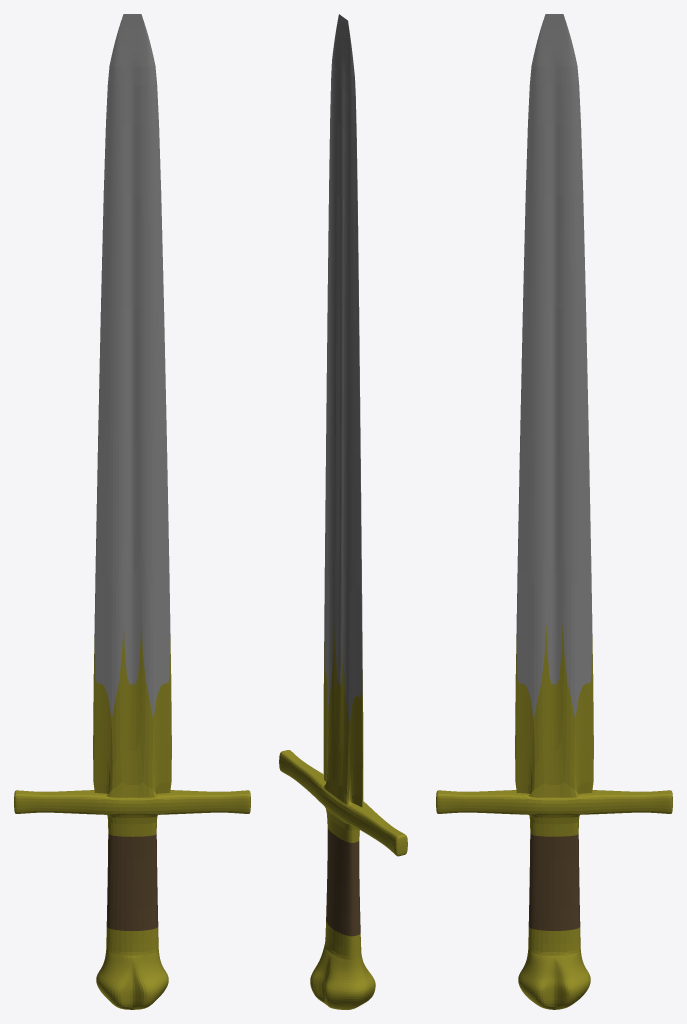
Rendered from Langschwert.fbx.
3 views of the same model, side by side, from view 1: azimuth 90°, elevation 25°; view 2: azimuth 210°, elevation 25°; view 3: azimuth 270°, elevation 25° (orthographic).
Parts seen in each view (by area): view 1: Schwert; view 2: Schwert; view 3: Schwert.
Part boxes in pixels (x1,y1,x2,y2): Schwert: (14,14,250,1009); Schwert: (279,14,407,1009); Schwert: (436,14,672,1009).
Bounding box in the file's own units: 2.54 × 48.61 × 10.51.
